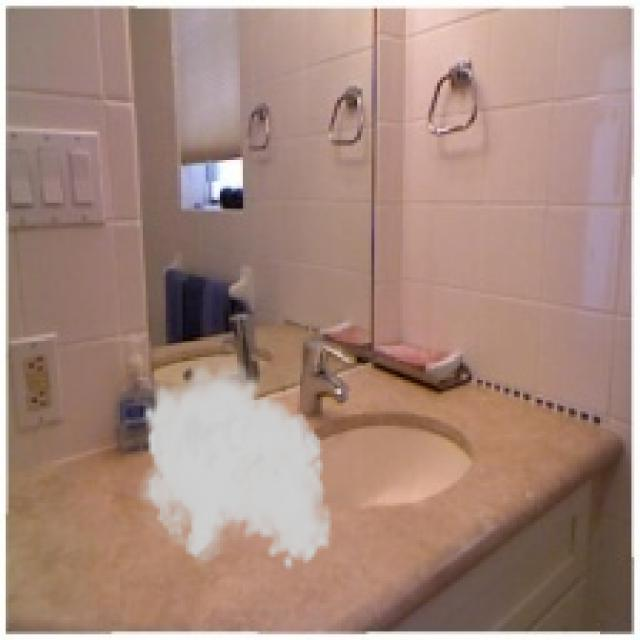smoke: (132, 354, 334, 572)
